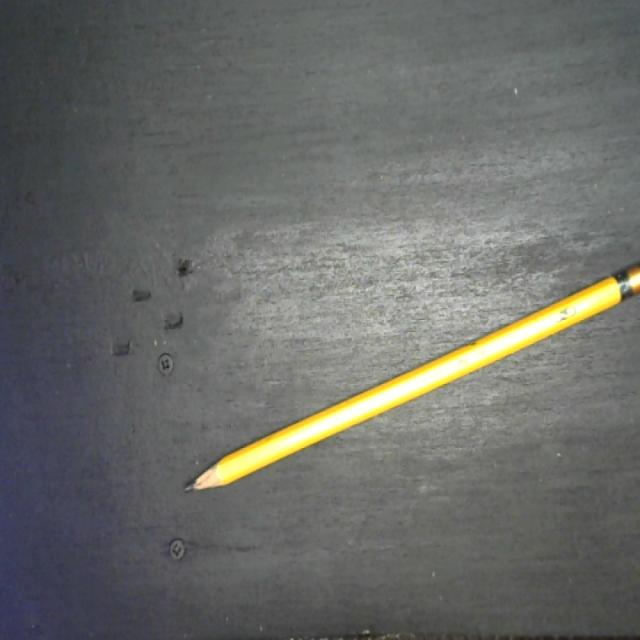biodegradable: (183, 259, 640, 502)
